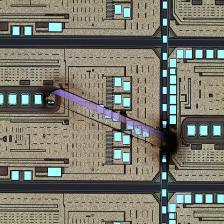PARTICLE: (42, 80, 187, 159)
